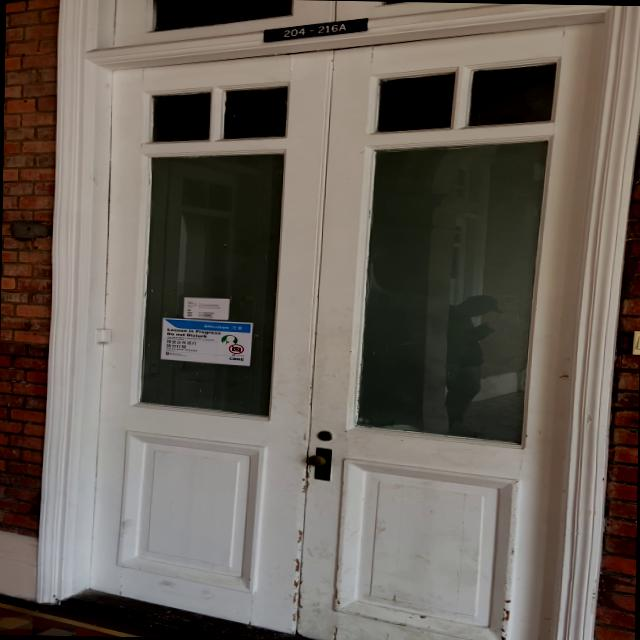room204: (256, 12, 368, 48)
